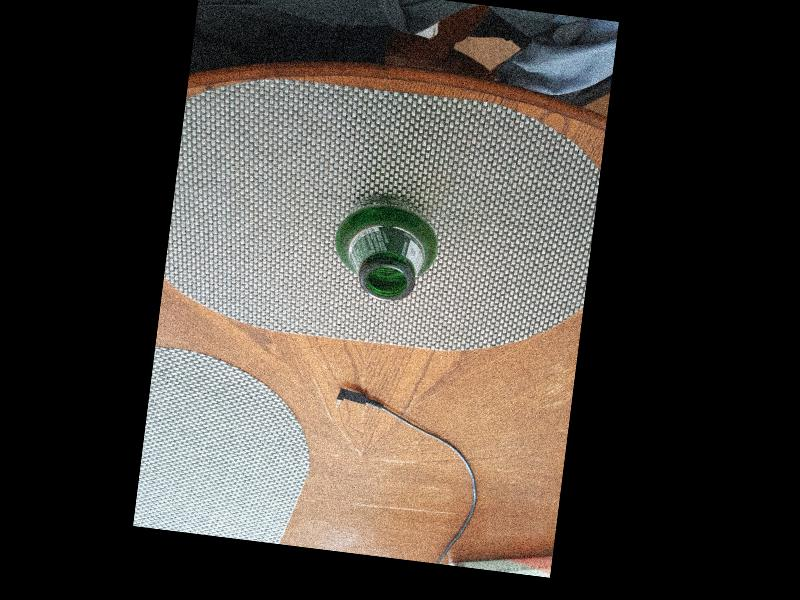Beer: (333, 190, 437, 303)
